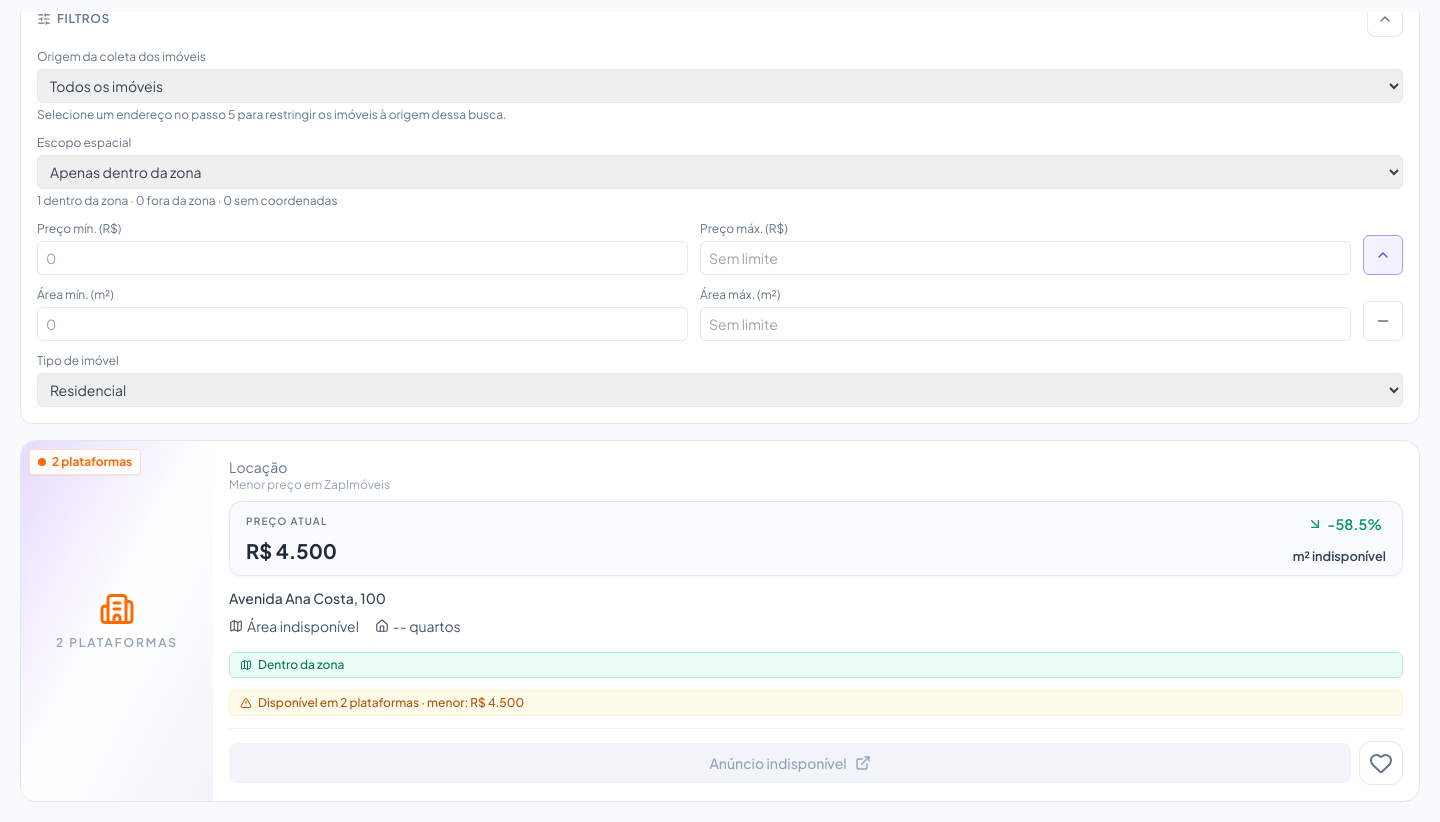
Scenario: Step6Analysis › shows per-platform prices and ad links when hovering the duplicated availability badge
(page scrolled)
Hover over the button "Disponível em 2 plataformas · menor: R$ 4.500" at {"x": 391, "y": 702}, box [229,690,1403,716]
(page scrolled)
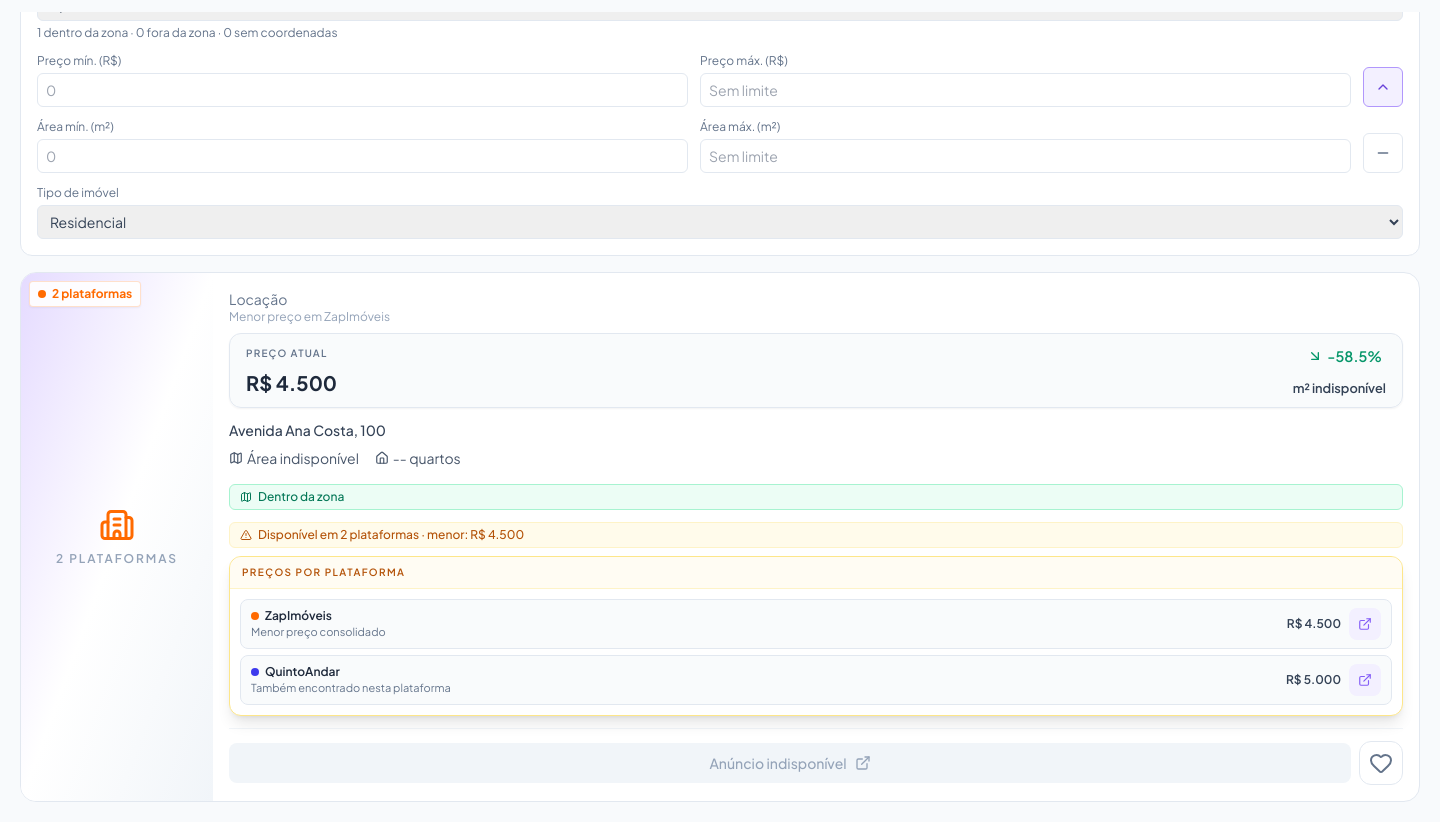
expect the text "Preços por plataforma" is shown: met, box [242,566,406,578]
expect the text "ZapImóveis" is shown: met, box [265,608,332,624]
expect the text "QuintoAndar" is shown: met, box [265,664,340,680]
